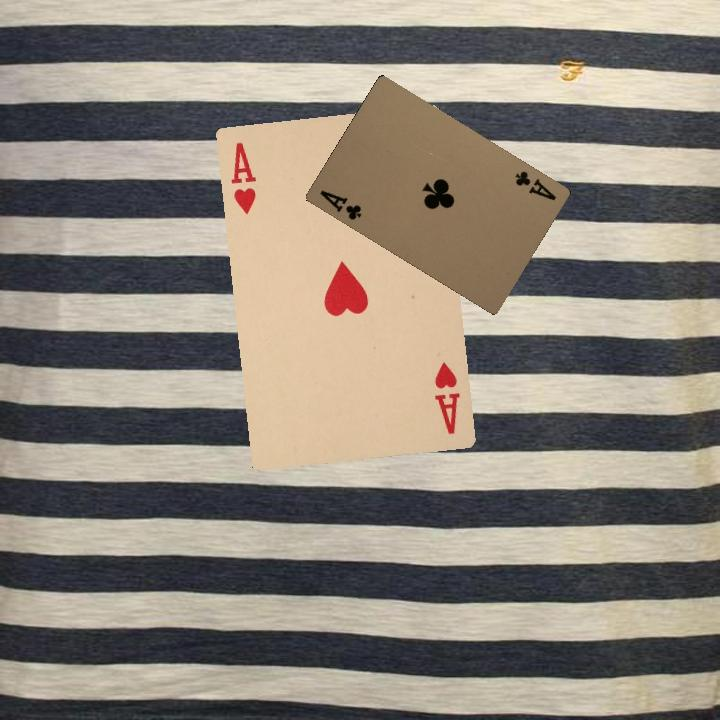Ac: (316, 186, 364, 222), (511, 167, 559, 203)
Ah: (430, 358, 463, 437), (227, 138, 259, 217)
